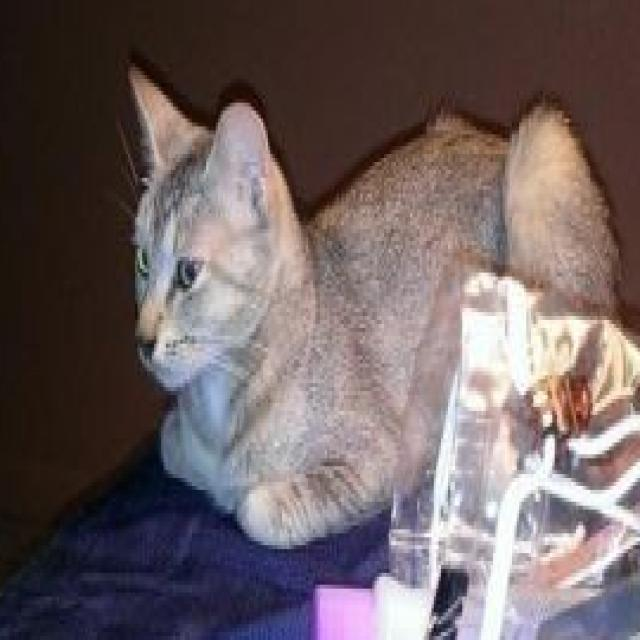Abyssinian: (119, 60, 629, 562)
